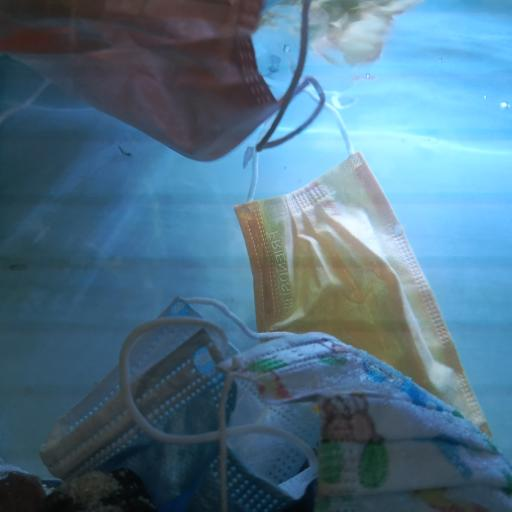mask: (234, 149, 494, 441), (39, 295, 320, 512), (213, 329, 512, 512), (1, 0, 311, 162)
